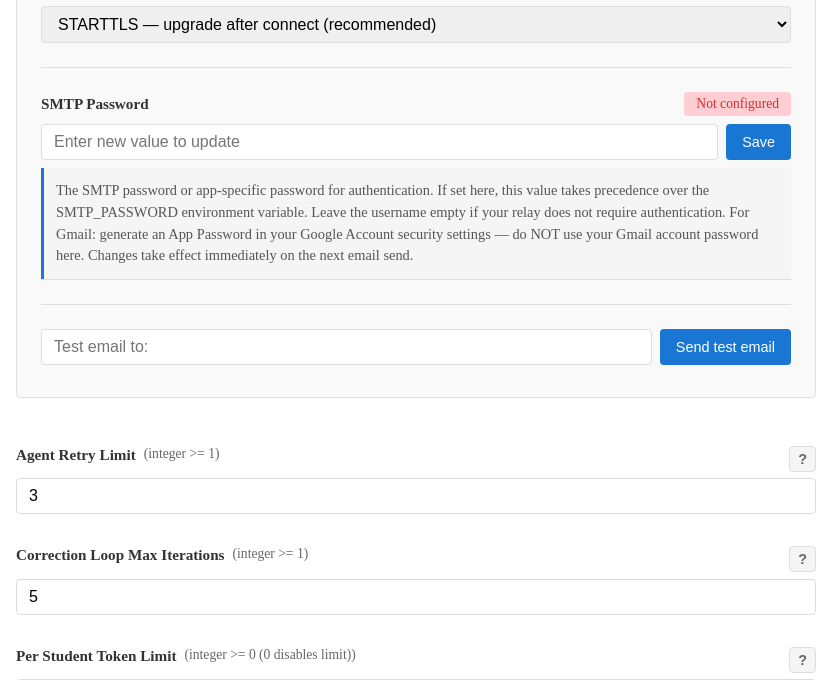
Test: SystemConfigView › test-send shows error result when SMTP fails
(page scrolled)
In the field with class "test-email-input": x=346, y=347 left=41, top=329, right=652, bottom=365, type "admin@example.com"
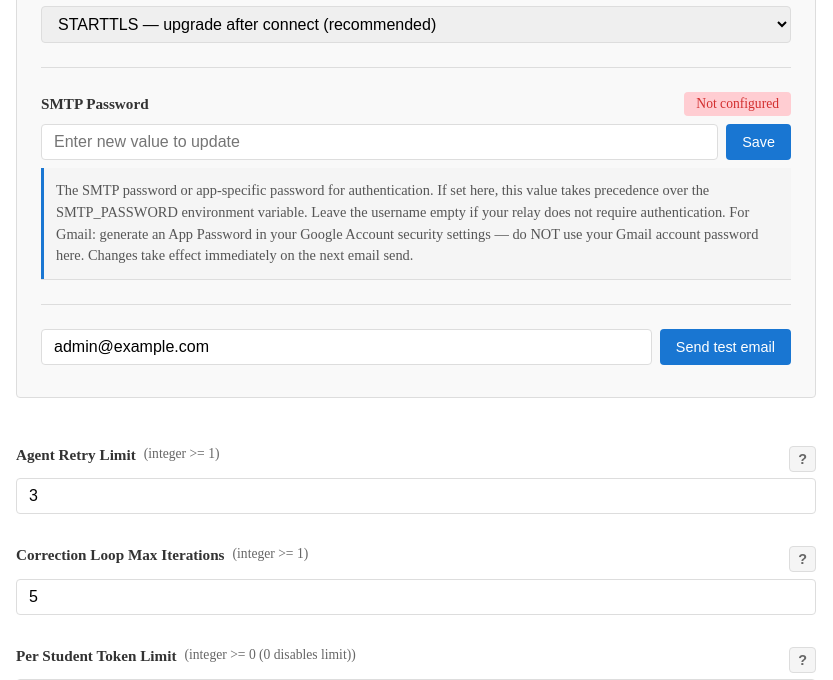
Click the button with class "test-email-button": x=725, y=347 left=660, top=329, right=791, bottom=365
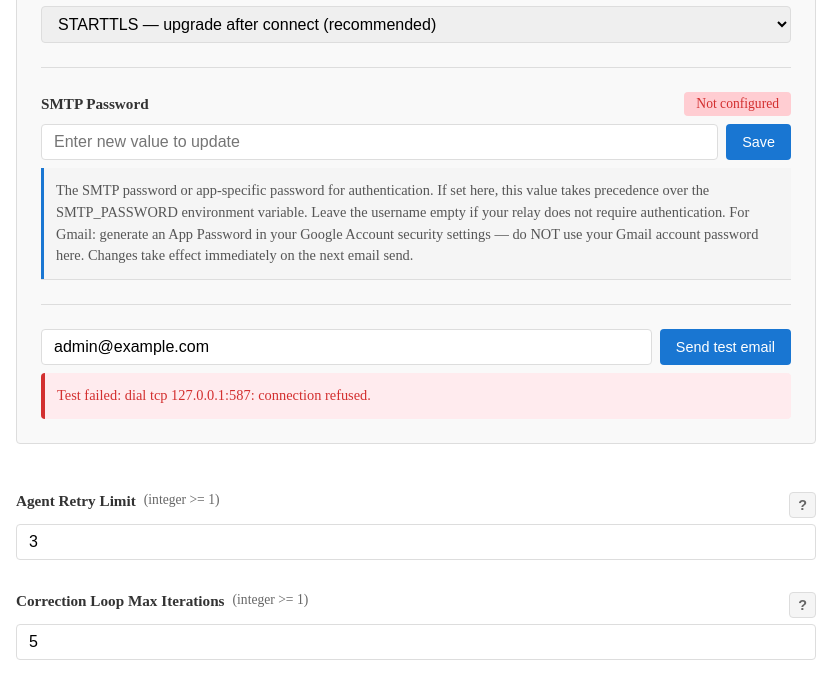
Result: the text "Test failed: dial tcp 127.0.0.1:587: connection refused." is shown at left=41, top=373, right=791, bottom=418
Result: the text with class "error" shows "Test failed:" at left=57, top=387, right=371, bottom=403
Result: the text with class "error" shows "connection refused" at left=57, top=387, right=371, bottom=403
